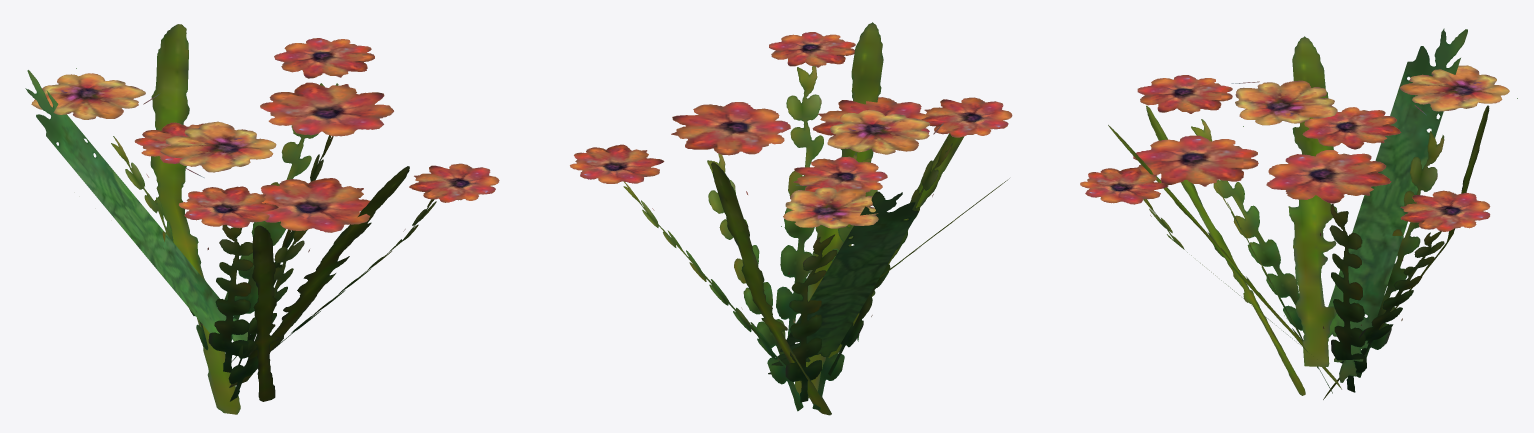
The model's file is cj_xinshou_cao02_53_43_8381out.fbx.
The picture shows the model from 3 angles, left to right: view 1: azimuth 30°, elevation 25°; view 2: azimuth 150°, elevation 25°; view 3: azimuth 270°, elevation 25°; orthographic projection. The views are drawn at different scales.
Parts seen in each view (by area): view 1: cj_xinshou_cao02; view 2: cj_xinshou_cao02; view 3: cj_xinshou_cao02.
Boxes of the visible parts, left/top/right/bottom form: cj_xinshou_cao02: left=25, top=24, right=499, bottom=414; cj_xinshou_cao02: left=570, top=22, right=1012, bottom=415; cj_xinshou_cao02: left=1080, top=28, right=1517, bottom=399.
Size of the model in its own units: 1.3 by 1.04 by 1.33.
